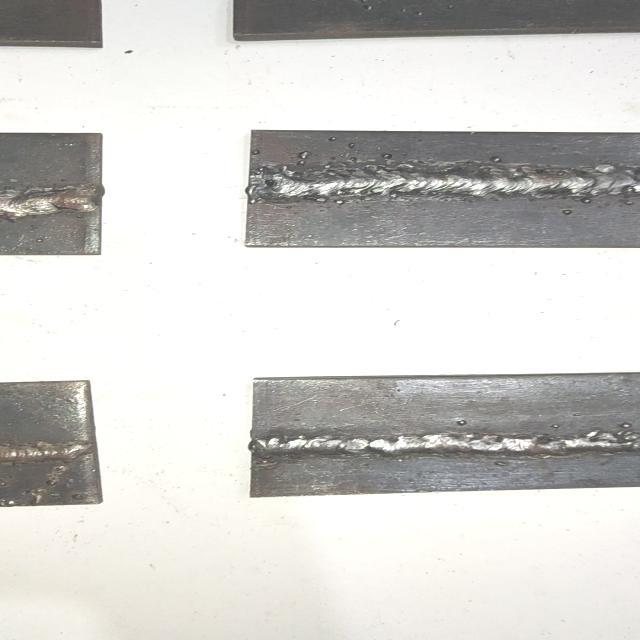Defect: (0, 183, 98, 218), (0, 440, 91, 468), (328, 149, 400, 177), (594, 416, 640, 459)
Welding Line: (254, 172, 640, 201), (257, 428, 640, 456)
Workpiece: (243, 373, 640, 501), (243, 125, 640, 251), (227, 0, 640, 42), (0, 128, 112, 258), (0, 378, 109, 509)
